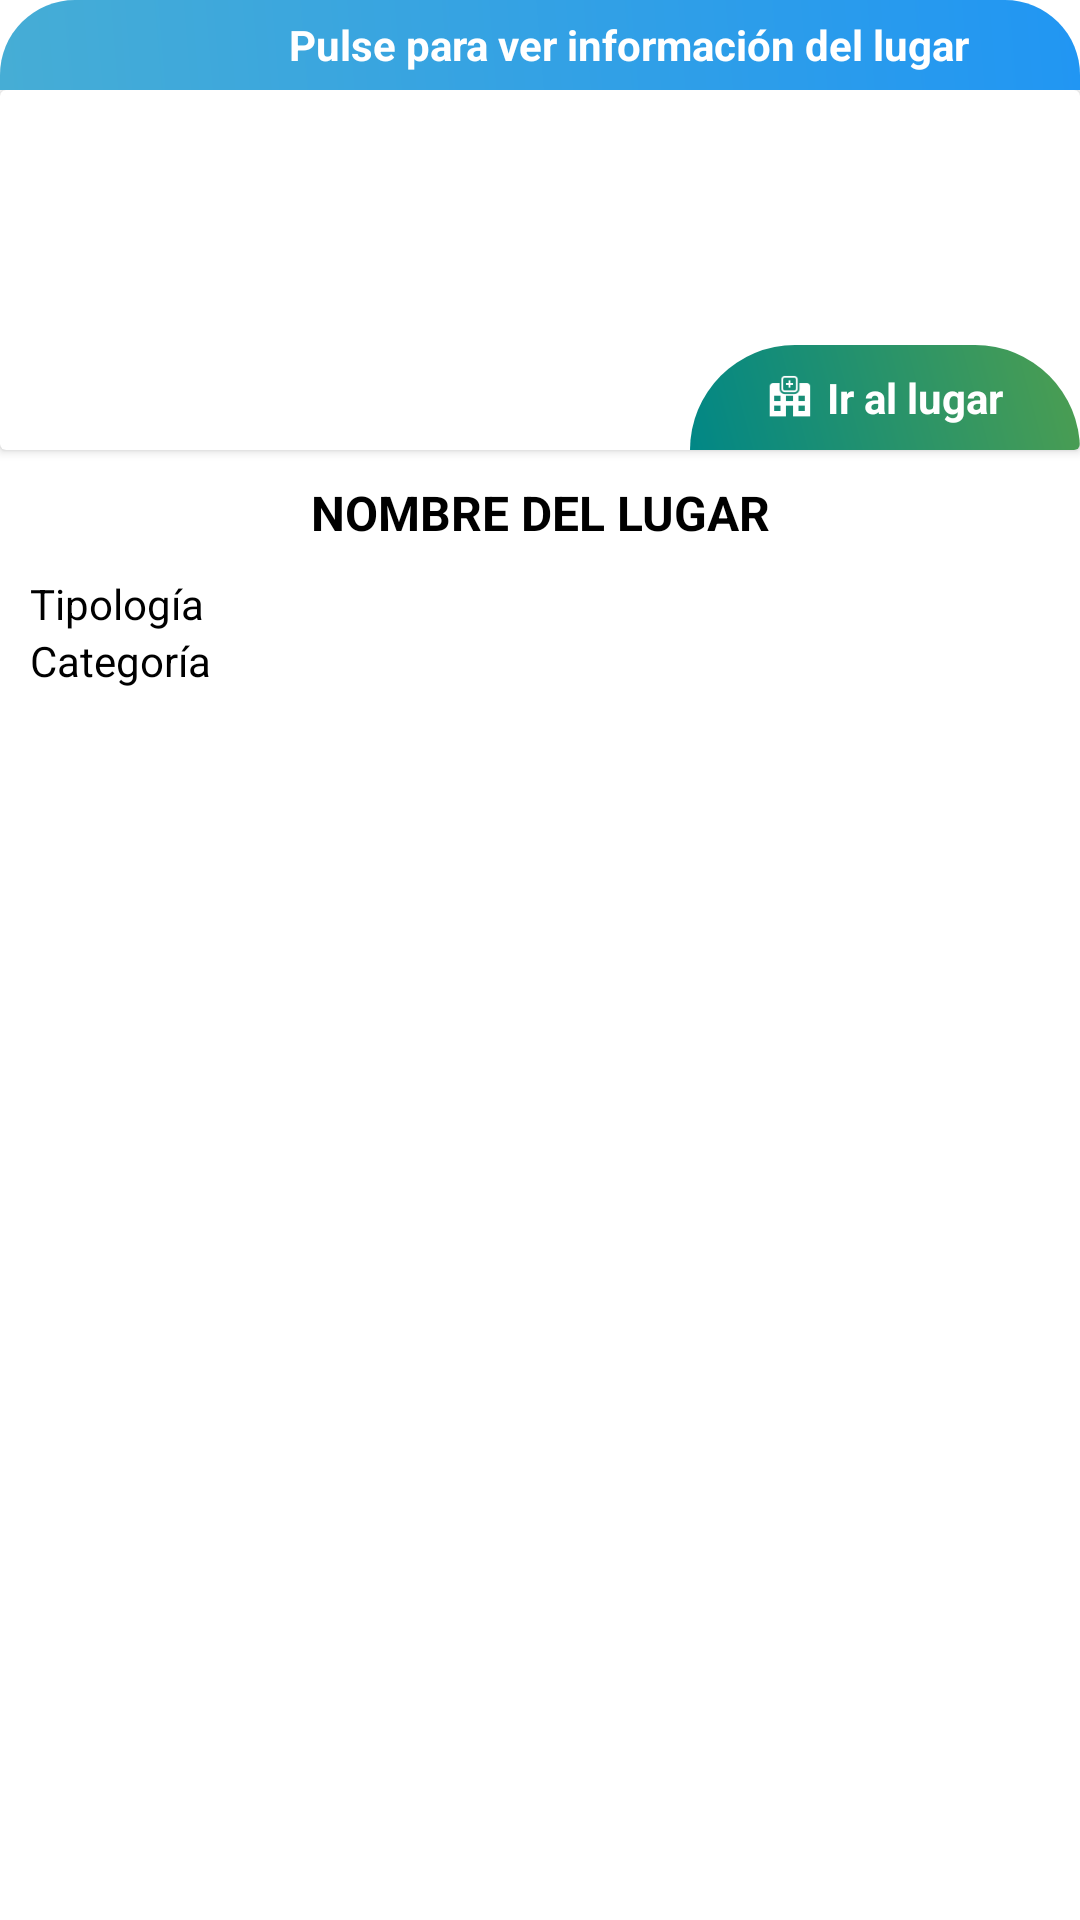

Icon click points for this 1080x1920 phone screenshot, format [x,y]:
hospital: [790,396]
